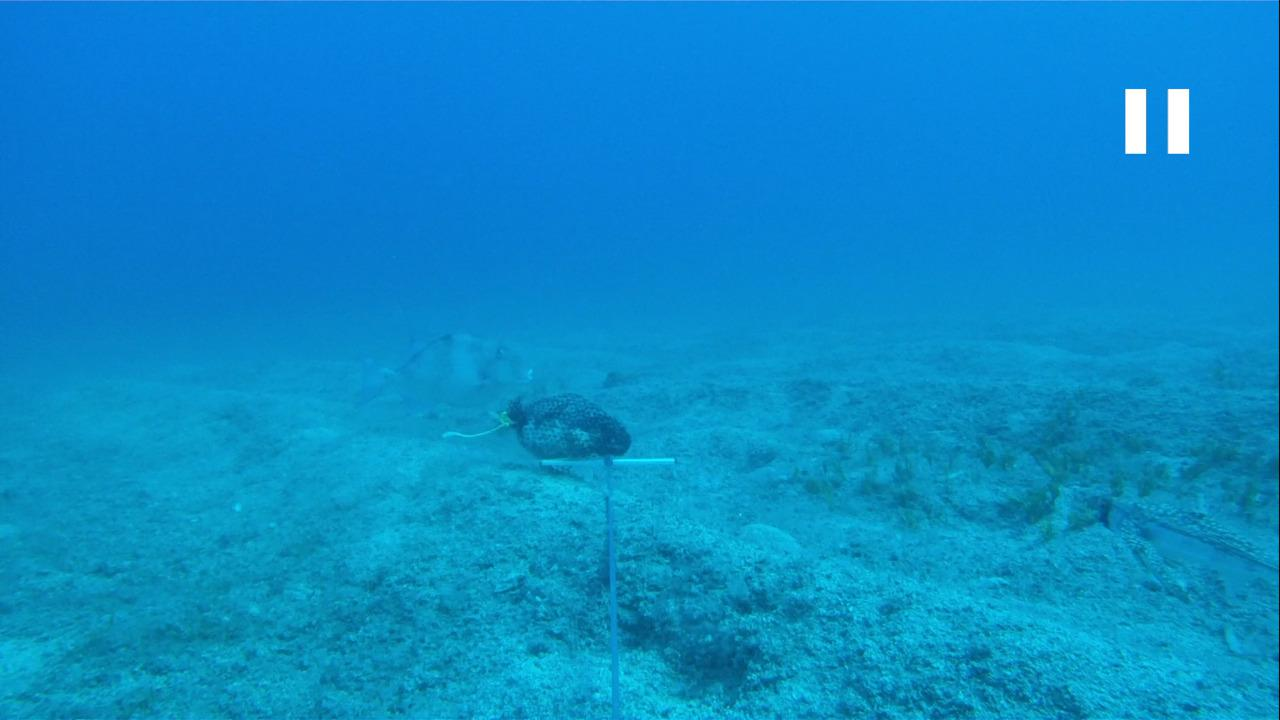balistes: (340, 325, 535, 431)
dactylopterus: (1085, 486, 1276, 636)
